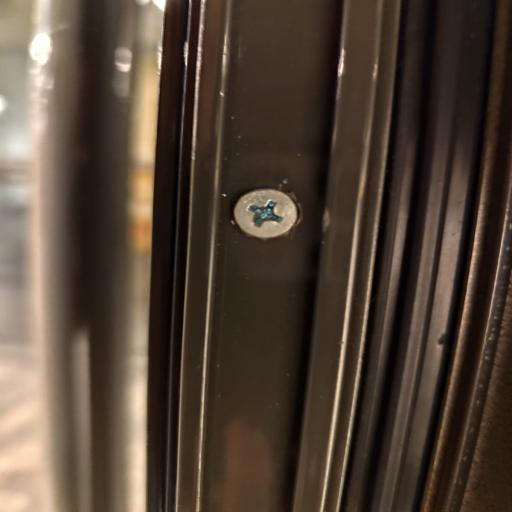Phillips: (234, 185, 298, 241)
